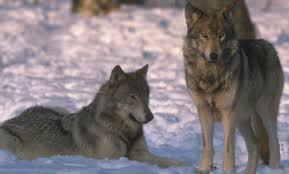wolf: (1, 62, 182, 169), (178, 4, 289, 172)
